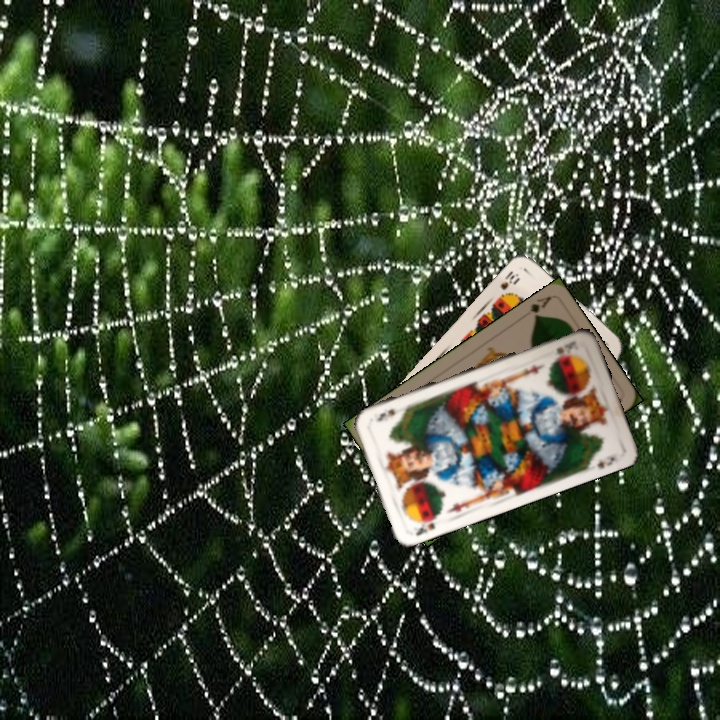GA: (526, 292, 554, 321)
S10: (496, 267, 522, 293)
SK: (412, 510, 443, 539), (552, 340, 577, 358)
